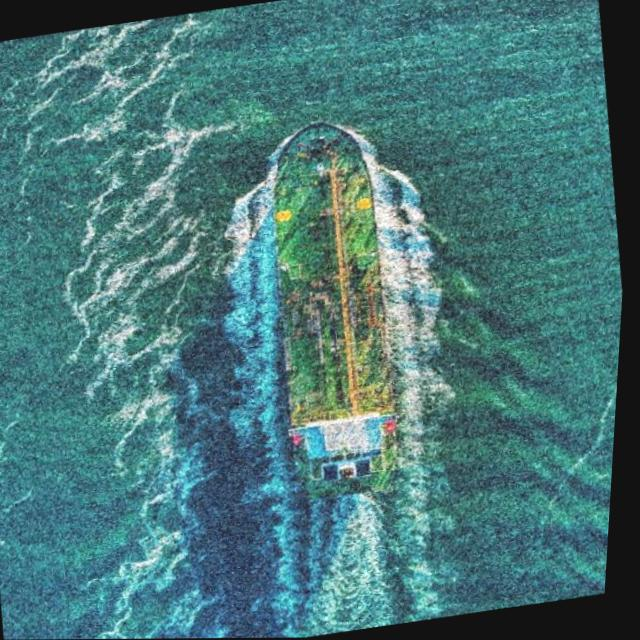ship2: (272, 121, 405, 500)
